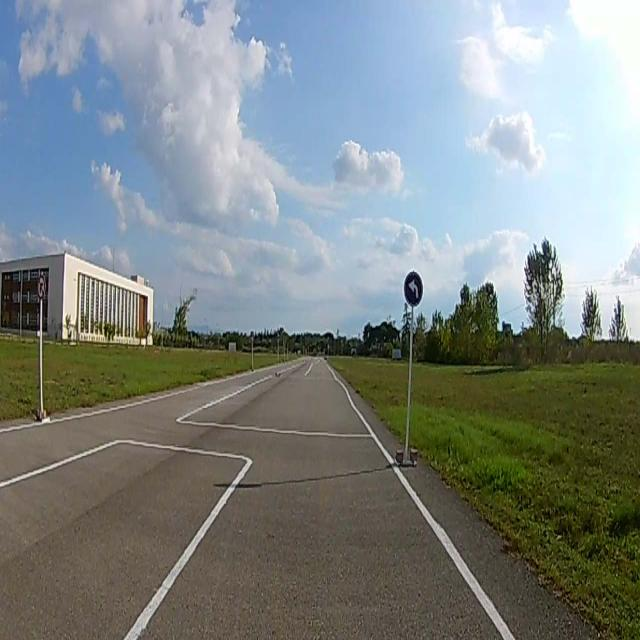sagadonulmez: (36, 273, 46, 299)
sol: (404, 269, 423, 307)
